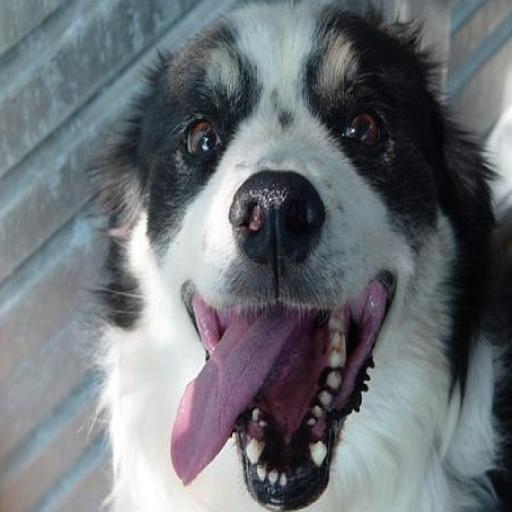dog_face: (111, 1, 459, 493)
